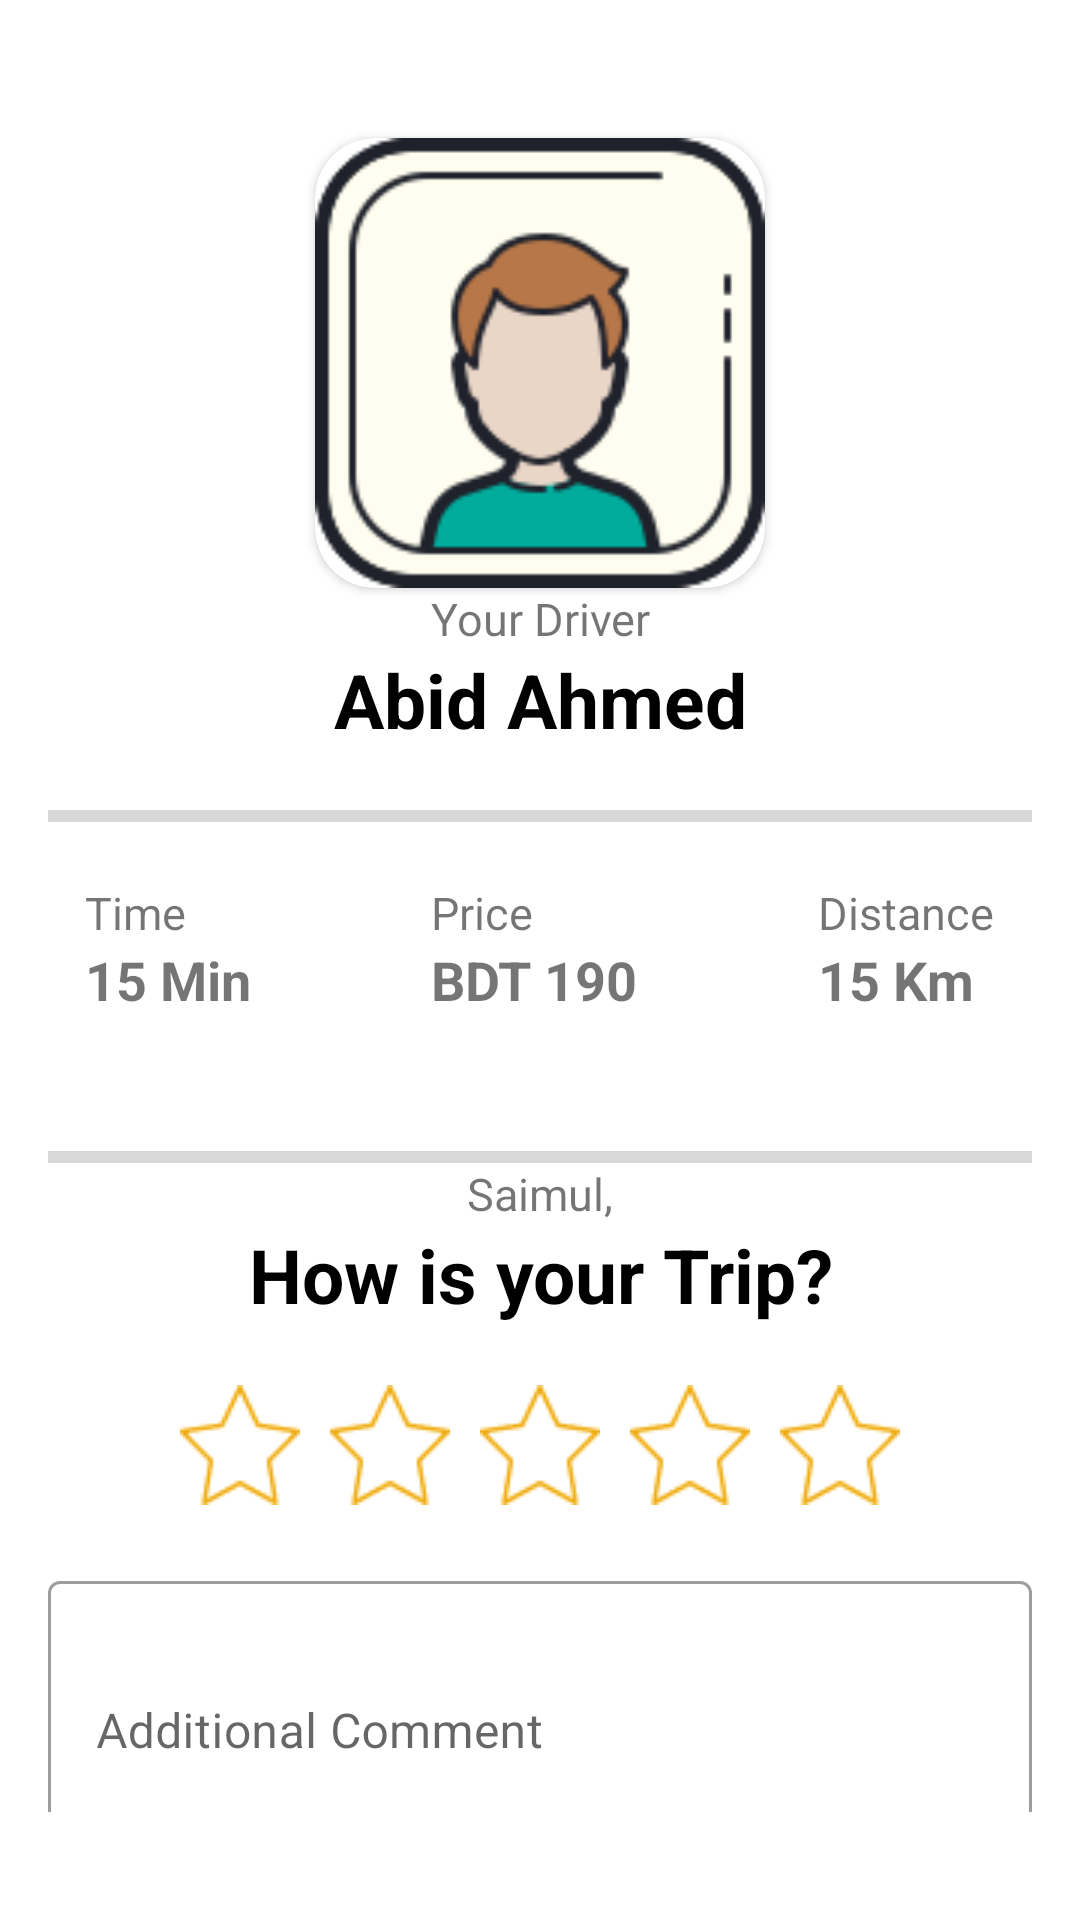

Screen size 1080 × 1920. Icon name, then its box in pixels as {"left": x1, "top": y1, "right": x2, "bottom": y2}:
star: {"left": 180, "top": 1385, "right": 300, "bottom": 1505}, {"left": 330, "top": 1385, "right": 450, "bottom": 1505}, {"left": 480, "top": 1385, "right": 600, "bottom": 1505}, {"left": 630, "top": 1385, "right": 750, "bottom": 1505}, {"left": 780, "top": 1385, "right": 900, "bottom": 1505}
